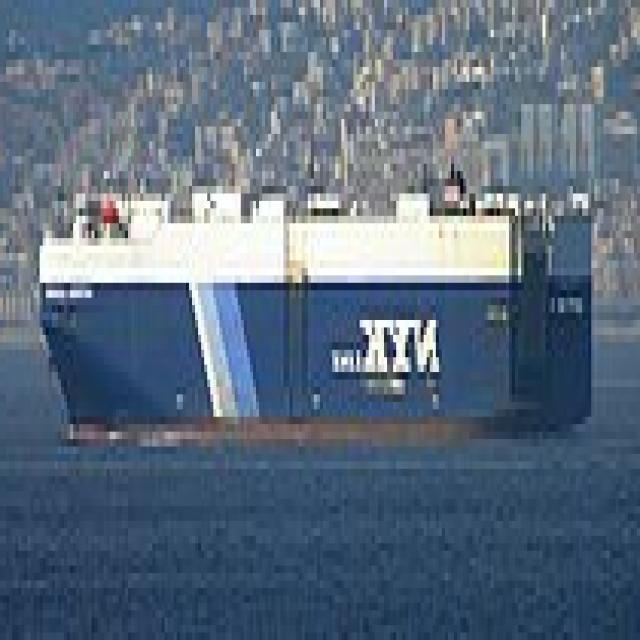Carrier: (40, 142, 597, 446)
